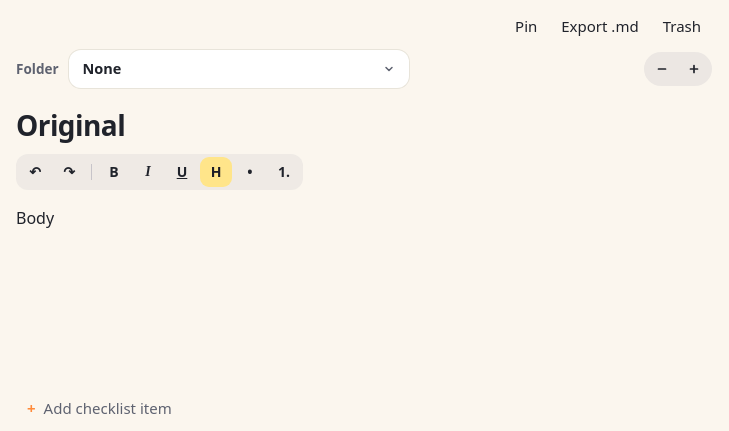
it: saves typing that arrives while an earlier autosave is pending
The image size is (729, 431).
Replace the text in the field named "Title" with "First edit". click: (364, 122)
box: [16,94,712,150]
Wait 600 ms
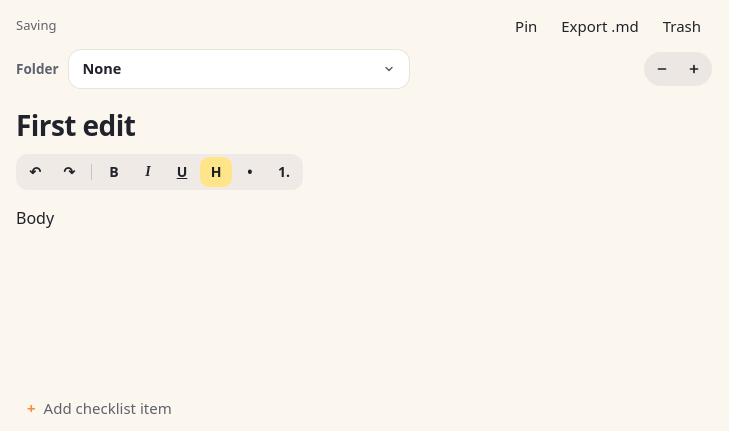
Replace the text in the field named "Title" with "Latest edit". click: (364, 122)
box: [16,94,712,150]
Wait 600 ms
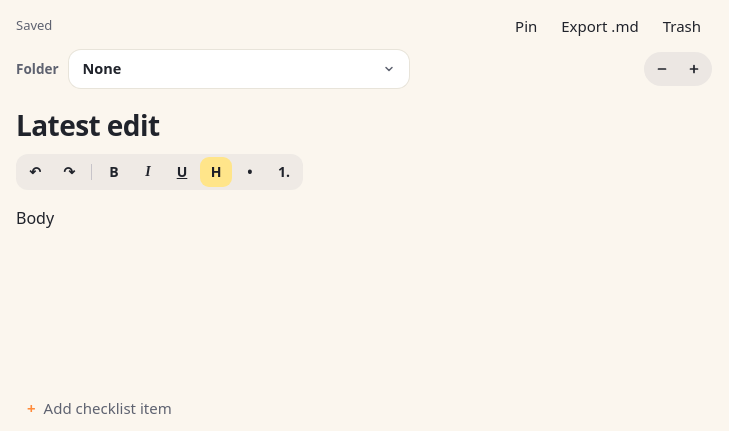
Check: the message "Saved" is shown, box [16,16,52,36]
